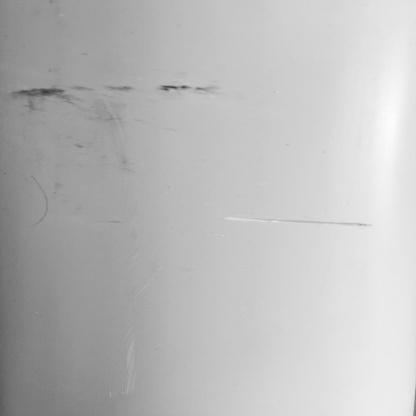sunshang: (217, 216, 380, 228), (23, 175, 52, 227)
